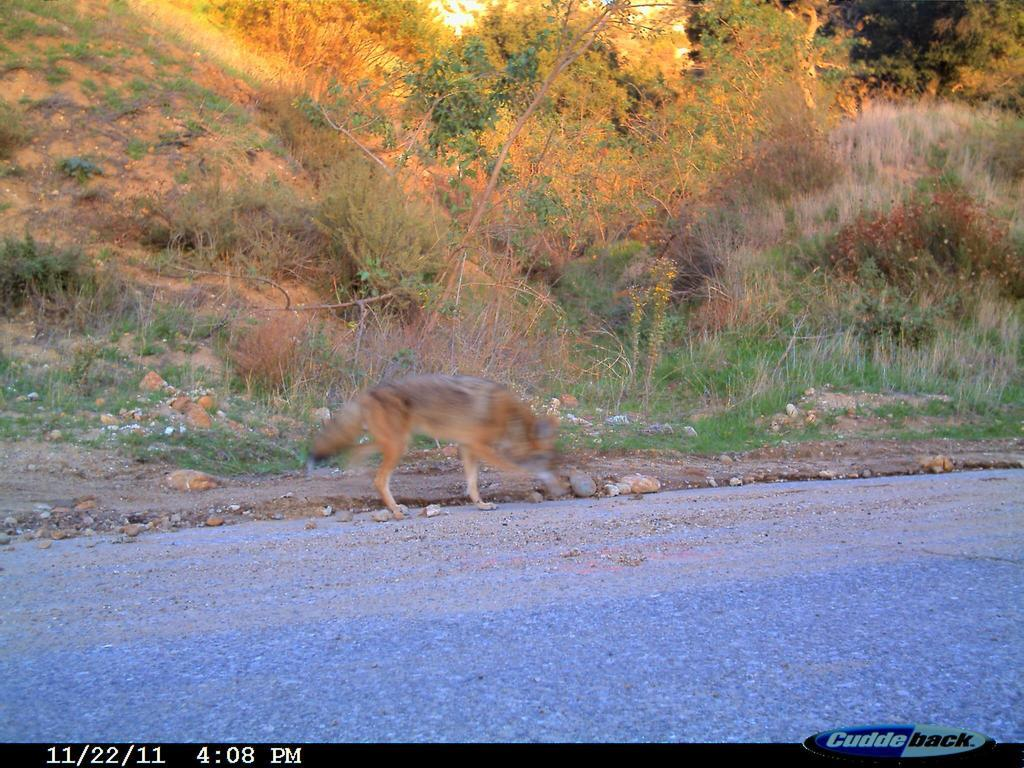coyote: (308, 367, 565, 524)
